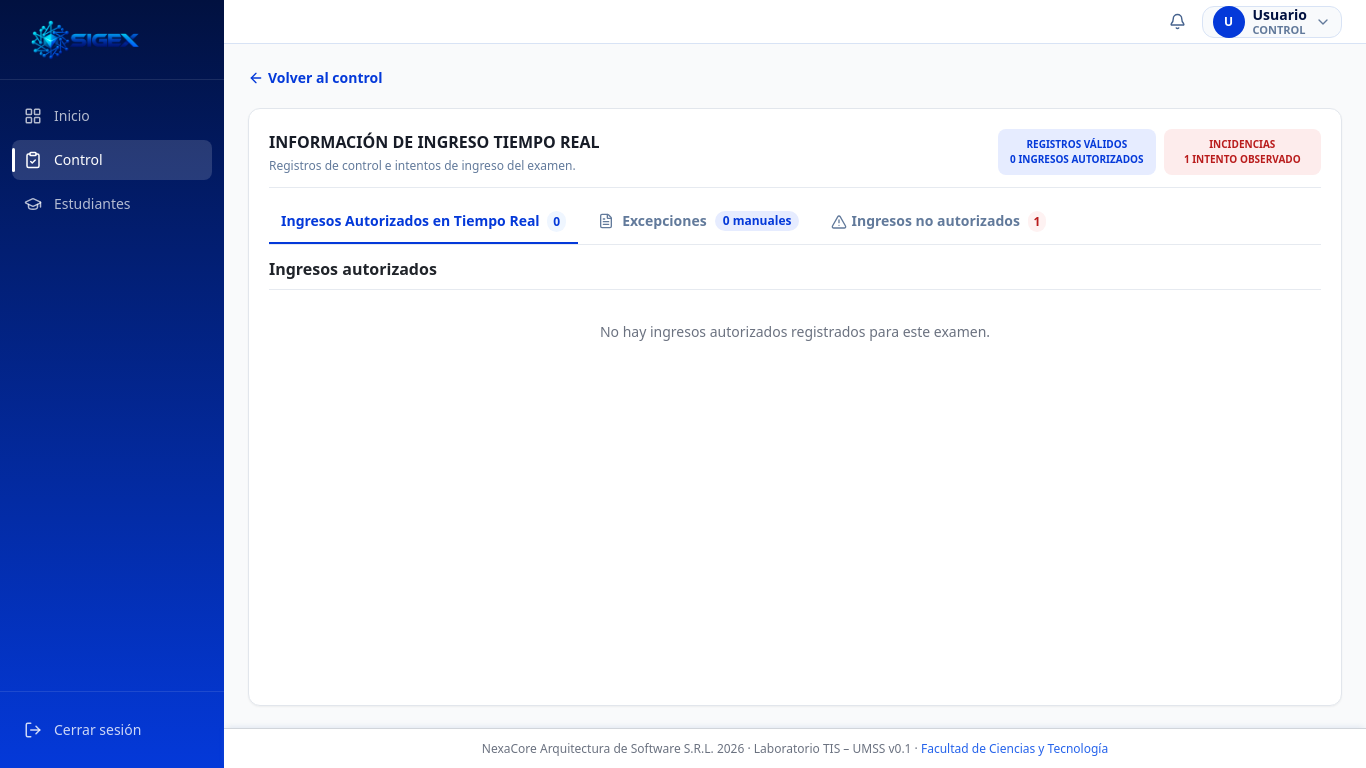
Test case: el detalle presenta el número de CI o su ausencia: false / null
Expected: the text "1 intento observado" is shown, [1184,152,1301,166]
Click the tab "Ingresos no autorizados 1". click: (939, 222)
box: [820,200,1058,244]
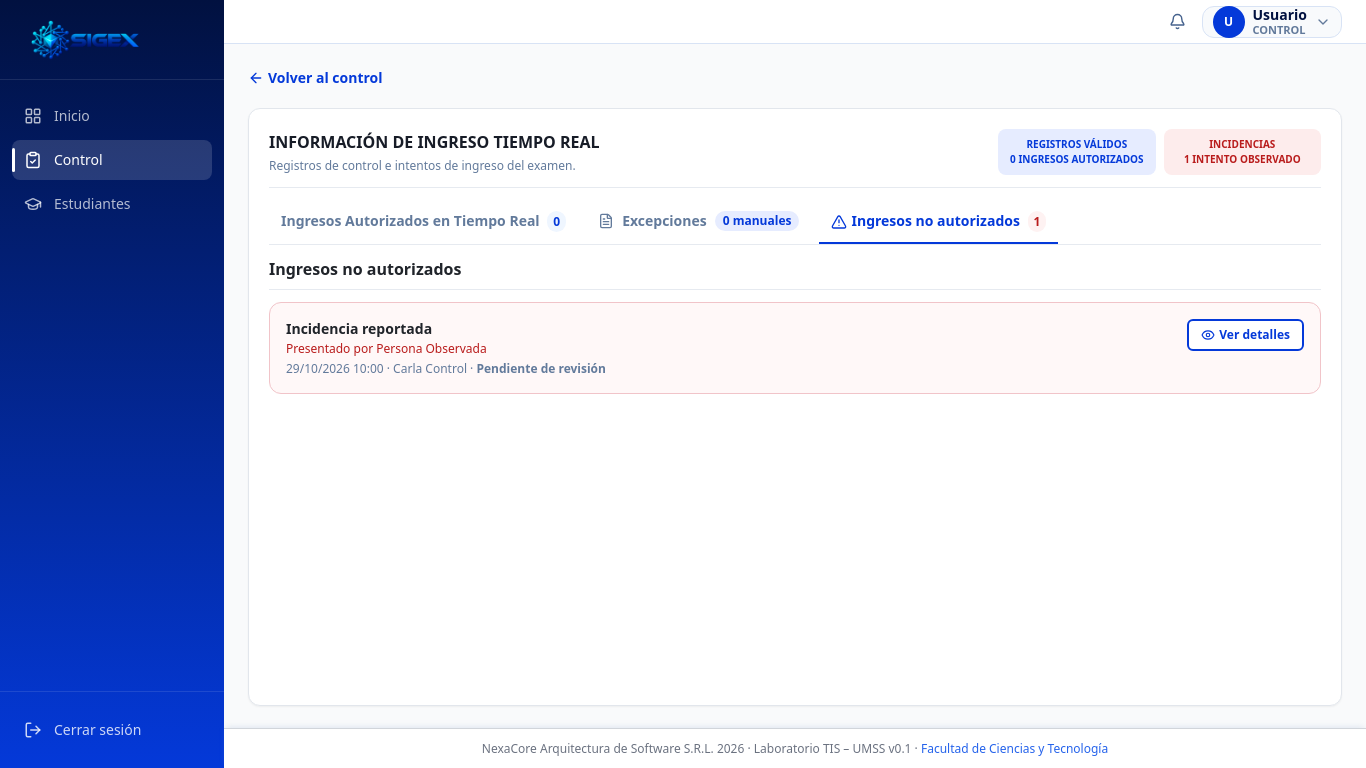
Click the button "Ver detalles". click: (1246, 335)
box: [1187,319,1304,351]
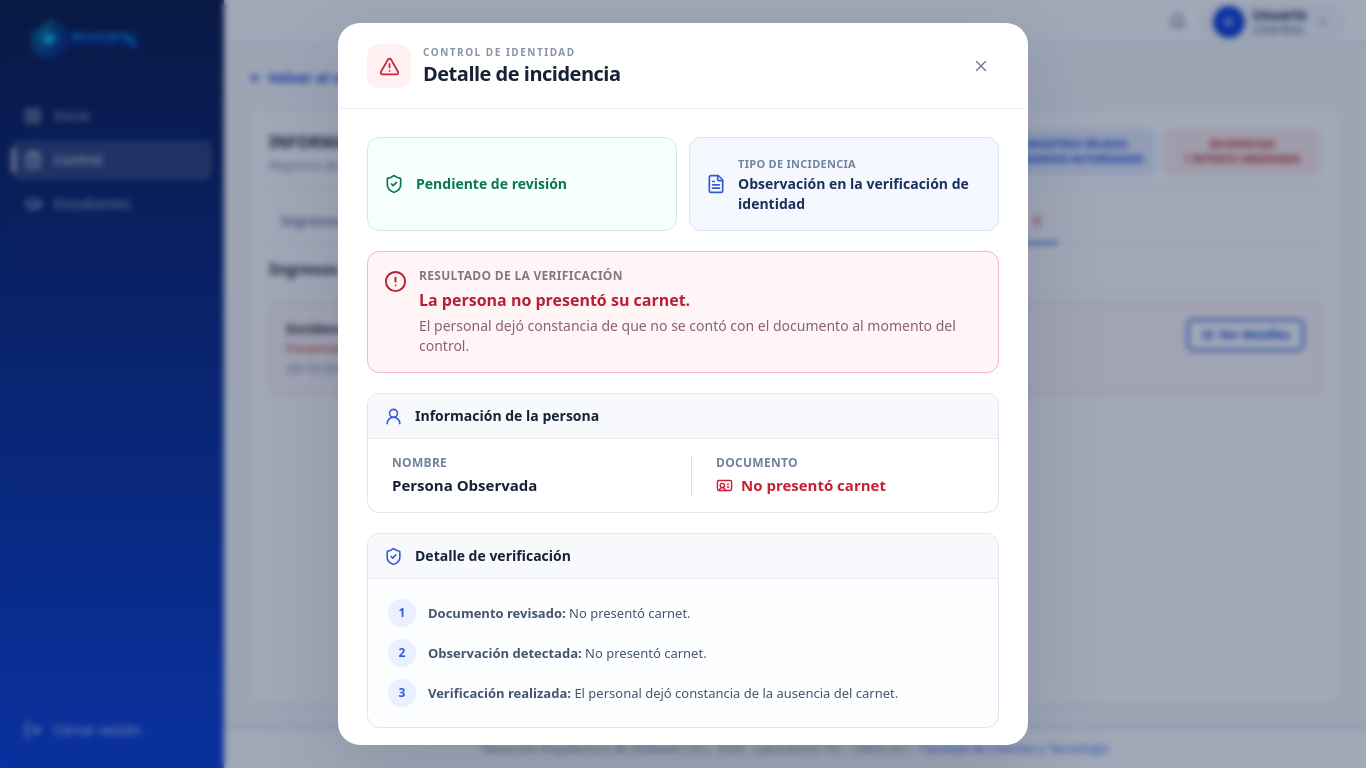
Result: the text "No presentó carnet" is shown at [716,475,886,495]
